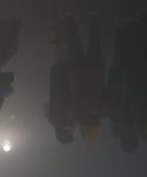person: (65, 10, 109, 141), (110, 13, 147, 157), (43, 8, 78, 142)
